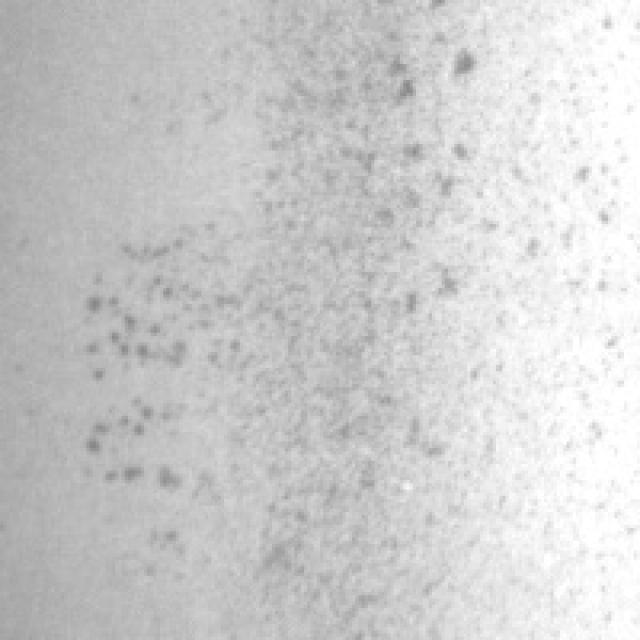pitted_surface: (77, 0, 624, 573)
